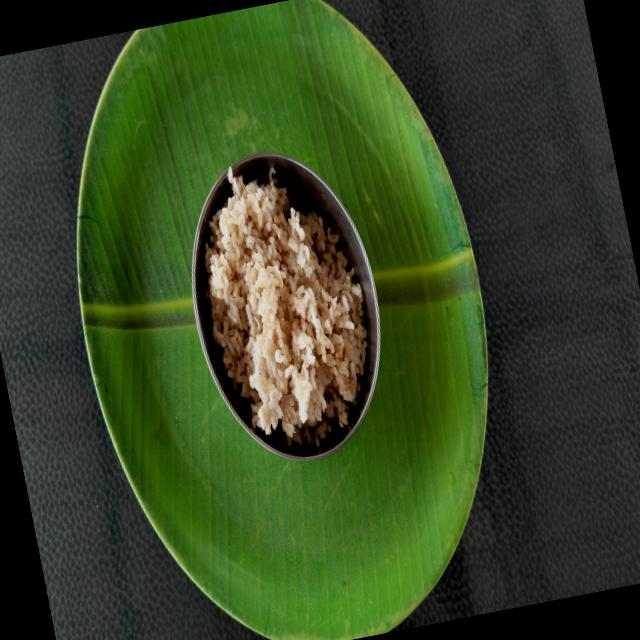brown-rice: (205, 168, 367, 446)
